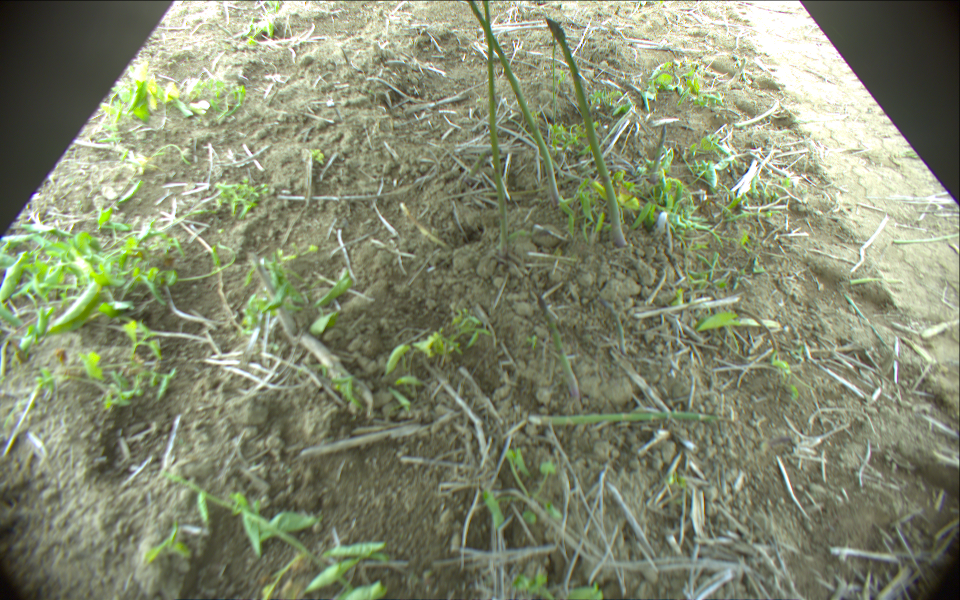aspa: (465, 1, 564, 209), (544, 17, 631, 247), (483, 1, 509, 258), (531, 292, 584, 411), (246, 253, 296, 343), (529, 408, 730, 425), (604, 300, 628, 353), (649, 122, 667, 177)
